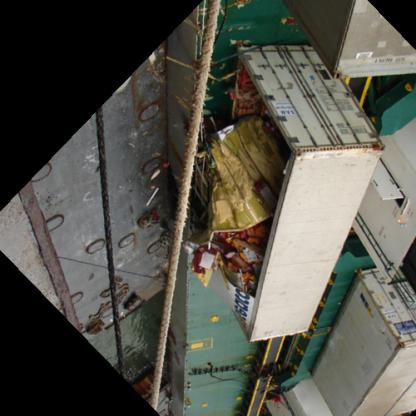Damage: (186, 74, 297, 330)
